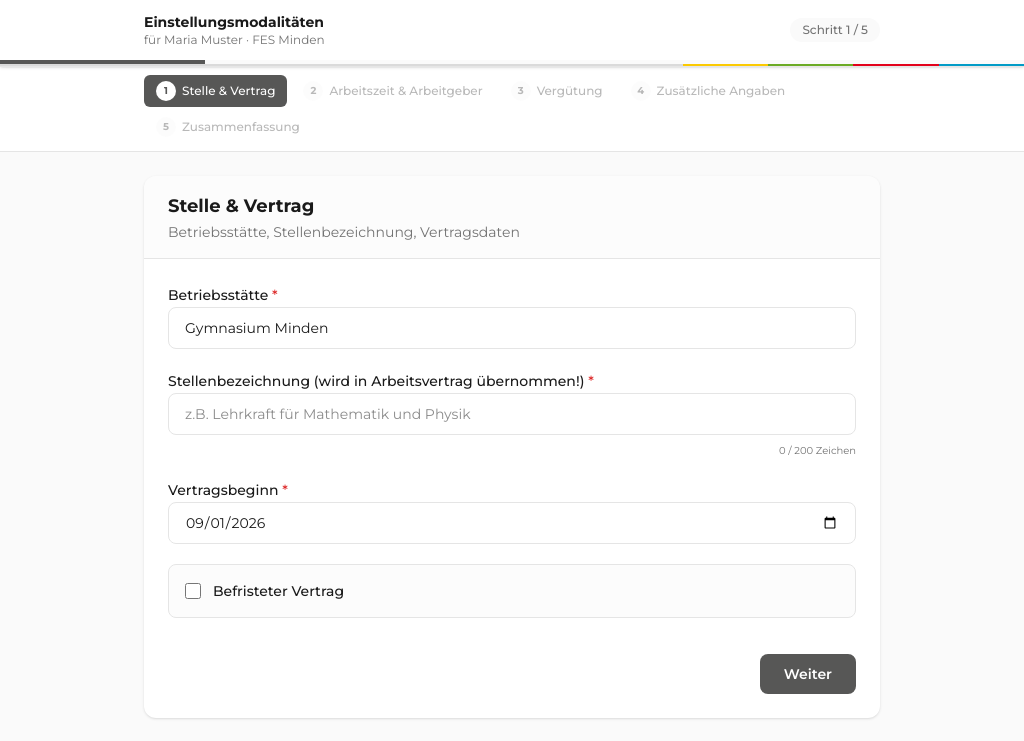
it: Stellenbezeichnung im Formular › meldet ein leeres Feld mit dem neuen Begriff
This screenshot has width=1024, height=741.
Click the button "Weiter".
click(808, 674)  # box [760,654,856,694]
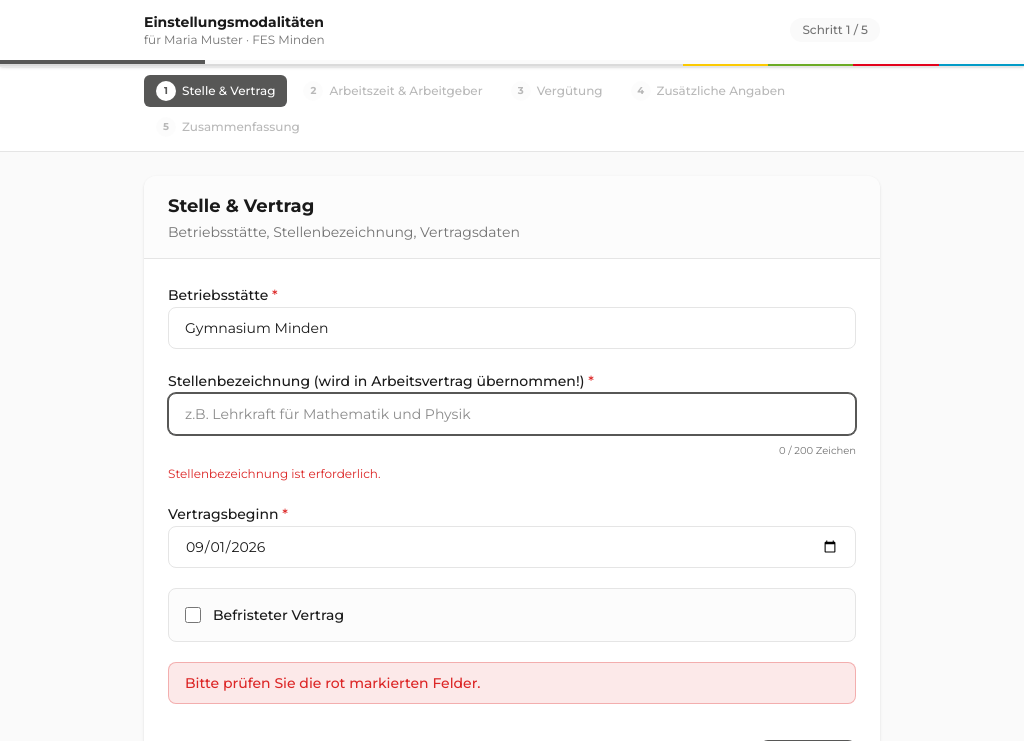
Check: the text "Stellenbezeichnung ist erforderlich." is shown, box [168,466,380,481]
